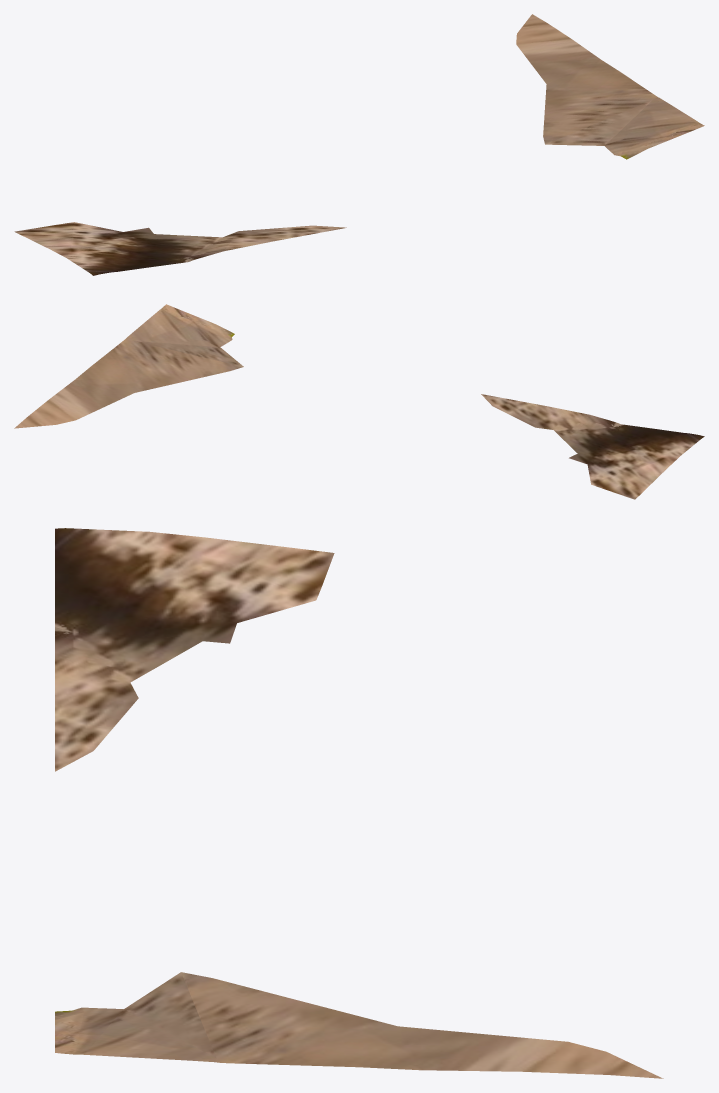
The picture shows the model from 3 angles, top to bottom: view 1: azimuth 30°, elevation 25°; view 2: azimuth 150°, elevation 25°; view 3: azimuth 270°, elevation 25°; orthographic projection. The views are drawn at different scales.
Bounding box in the file's own units: 2.09 × 0.0482 × 1.02.
Materials: 1 (1 with a texture image).
